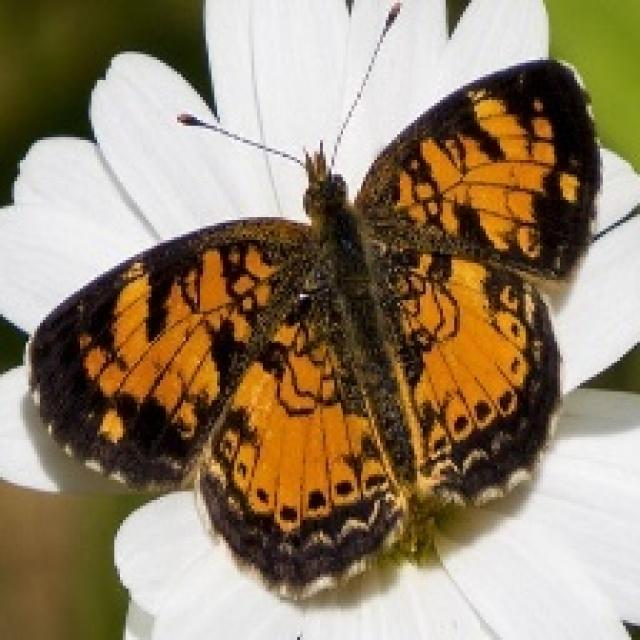butterfly: (23, 0, 637, 603)
